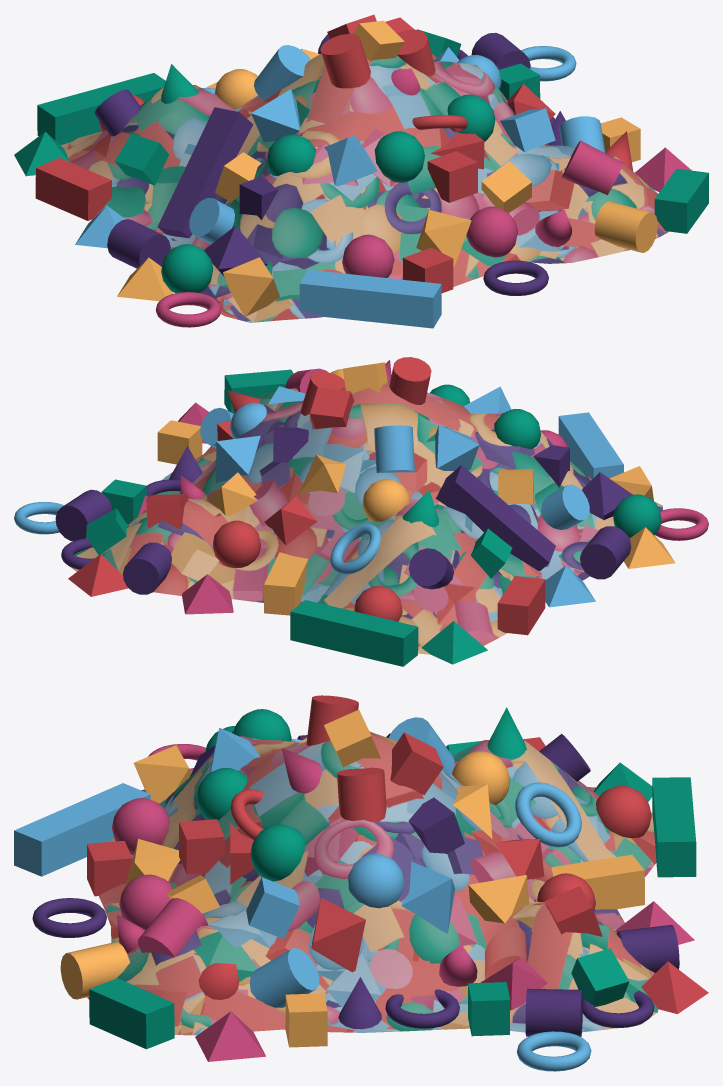
Rendered from pile_large_1.glb.
The picture shows the model from 3 angles, top to bottom: view 1: azimuth 30°, elevation 25°; view 2: azimuth 150°, elevation 25°; view 3: azimuth 270°, elevation 25°; orthographic projection. The views are drawn at different scales.
Visible parts, largest first — view 1: pile_large_1; view 2: pile_large_1; view 3: pile_large_1.
Boxes of the visible parts, x1,y1,x2,y2 form: pile_large_1: (14,14,708,328); pile_large_1: (14,357,708,666); pile_large_1: (14,695,708,1071).
Size of the model in its own units: 25.52 by 7.71 by 23.25.
7 materials, 1 textured.
